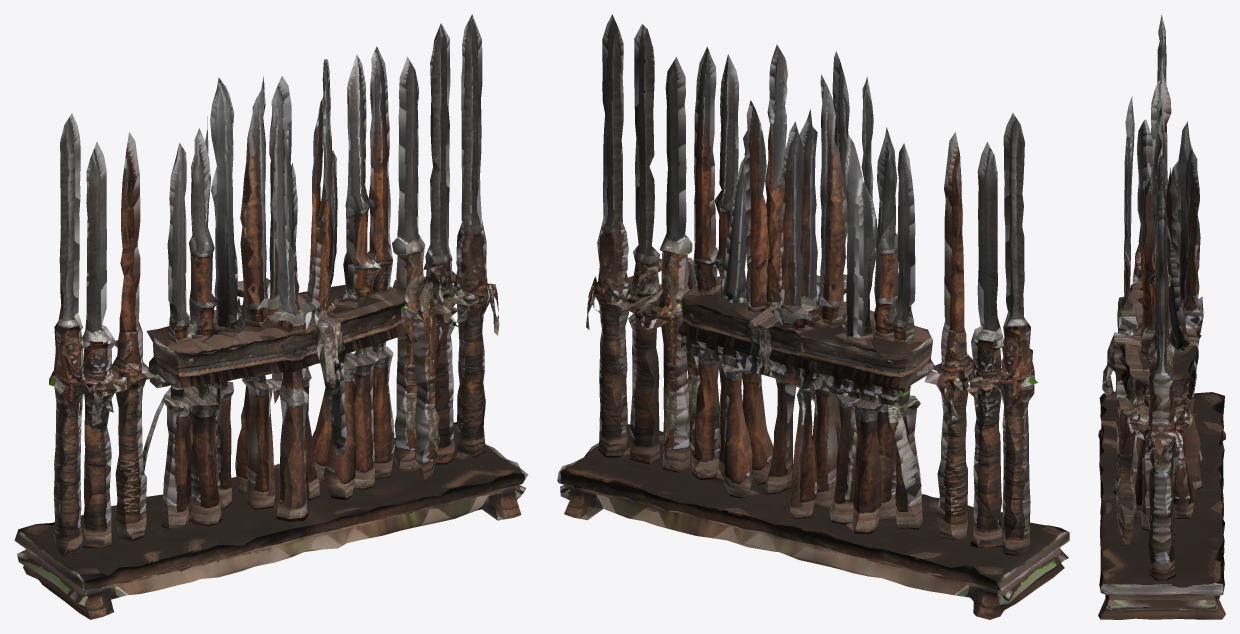
Rendered from weapon_rack.glb.
3 views of the same model, side by side, from view 1: azimuth 30°, elevation 25°; view 2: azimuth 150°, elevation 25°; view 3: azimuth 270°, elevation 25° (orthographic). The views are drawn at different scales.
Visible parts, largest first — view 1: geometry_0; view 2: geometry_0; view 3: geometry_0.
Part boxes in pixels (x1,y1,x2,y2): geometry_0: (14,14,528,619); geometry_0: (557,14,1069,619); geometry_0: (1098,15,1225,619).
Bounding box in the file's own units: 1.76 × 1.8 × 0.4872.
1 material, 1 textured.
